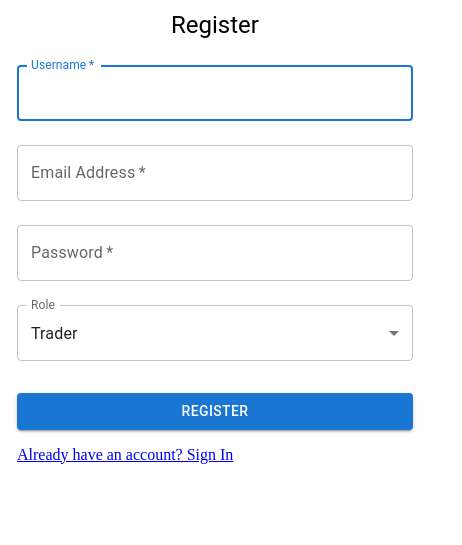
Test case: RegisterPage Component › displays error message on failed registration
The width and height of the screenshot is (462, 545).
Type "testuser" into the field labelled "Username *" at (215, 93), box [17,65,413,121]
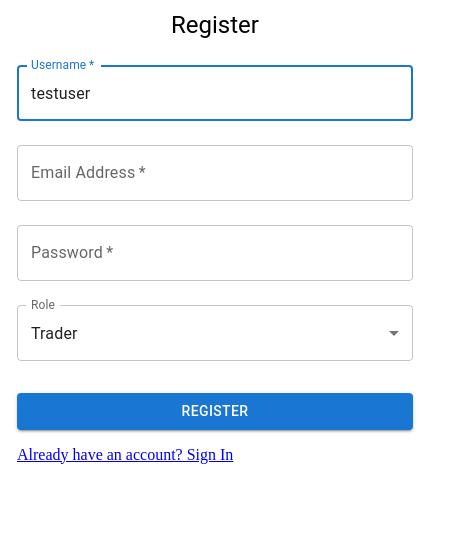
Type "test@example.com" into the field labelled "Email Address *" at (215, 173), box [17,145,413,201]
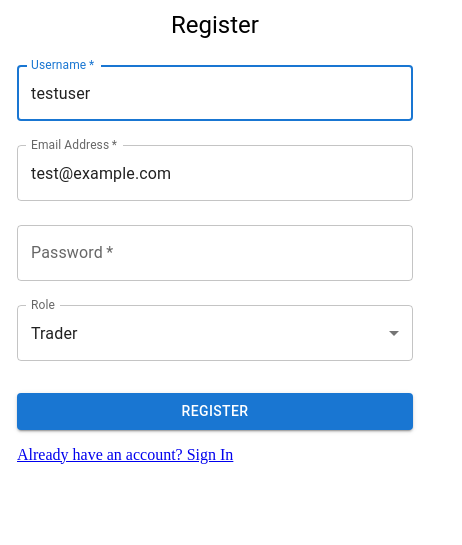
Type "password123" into the password field labelled "Password *" at (215, 253), box [17,225,413,281]
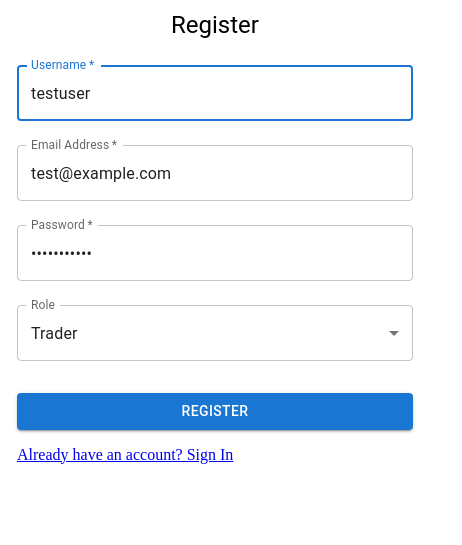
Click the button "Register" at (215, 411), box [17,393,413,430]
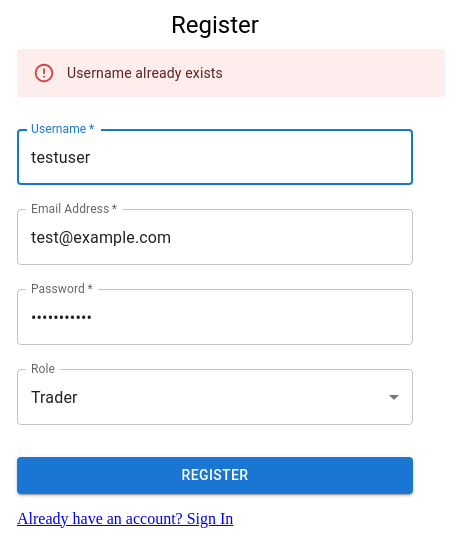
Now the text "Username already exists" is shown, box [67,65,223,81]
